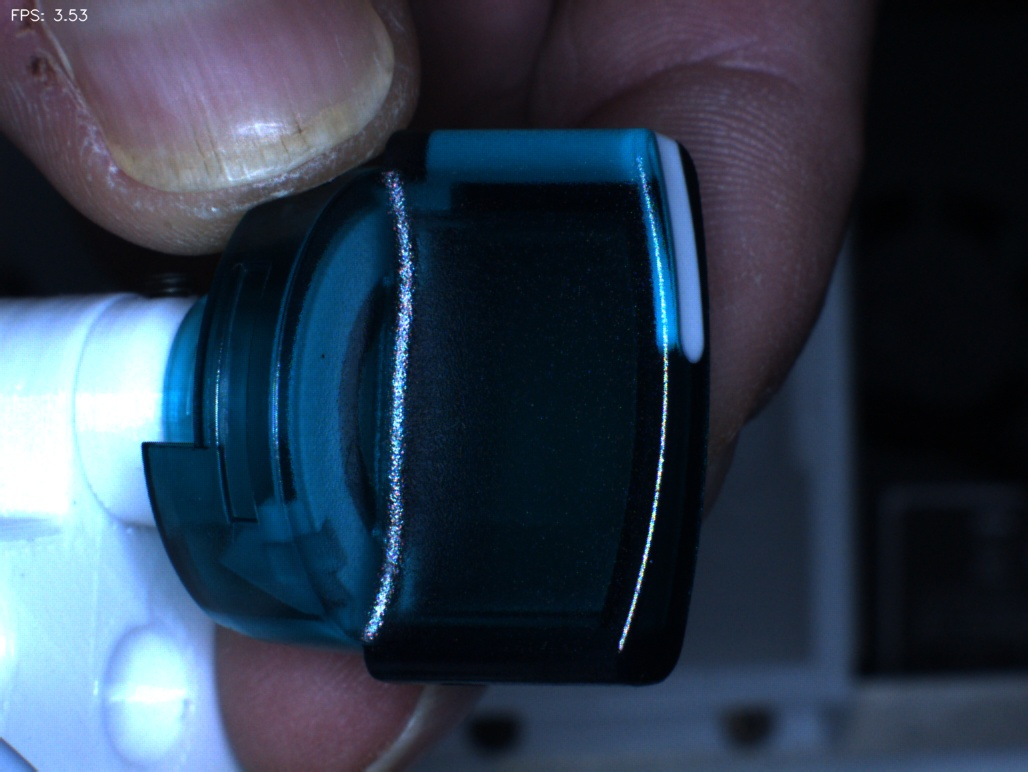PointNoir: (295, 312, 363, 410)
